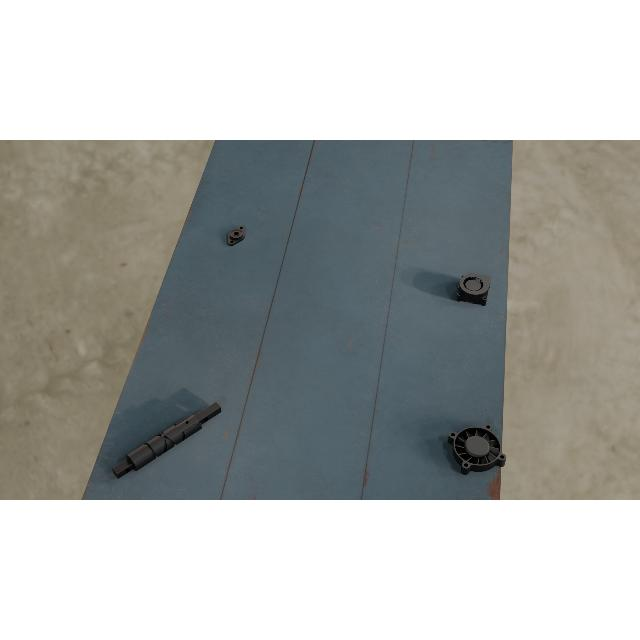Pieza1: (108, 396, 224, 484)
Pieza2: (222, 222, 250, 248)
Pieza3: (456, 271, 492, 307)
Pieza4: (446, 423, 508, 477)
